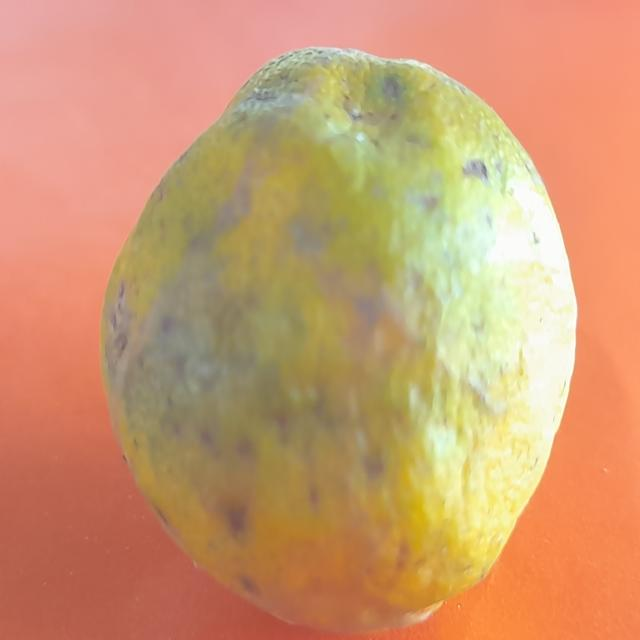black spot: (89, 30, 580, 632)
